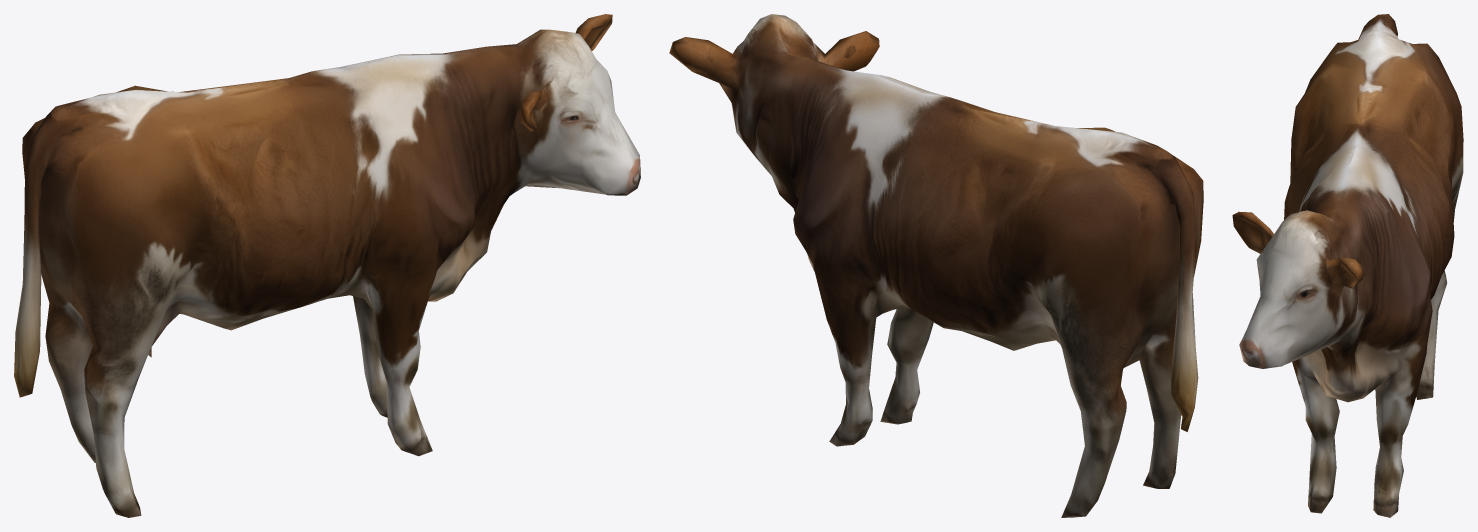
File: cow_single_1500_00001.glb
3 views of the same model, side by side, from view 1: azimuth 30°, elevation 25°; view 2: azimuth 150°, elevation 25°; view 3: azimuth 270°, elevation 25° (orthographic). The views are drawn at different scales.
Size of the model in its own units: 0.9124 by 0.6023 by 0.3531.
Materials: 1 (1 with a texture image).
